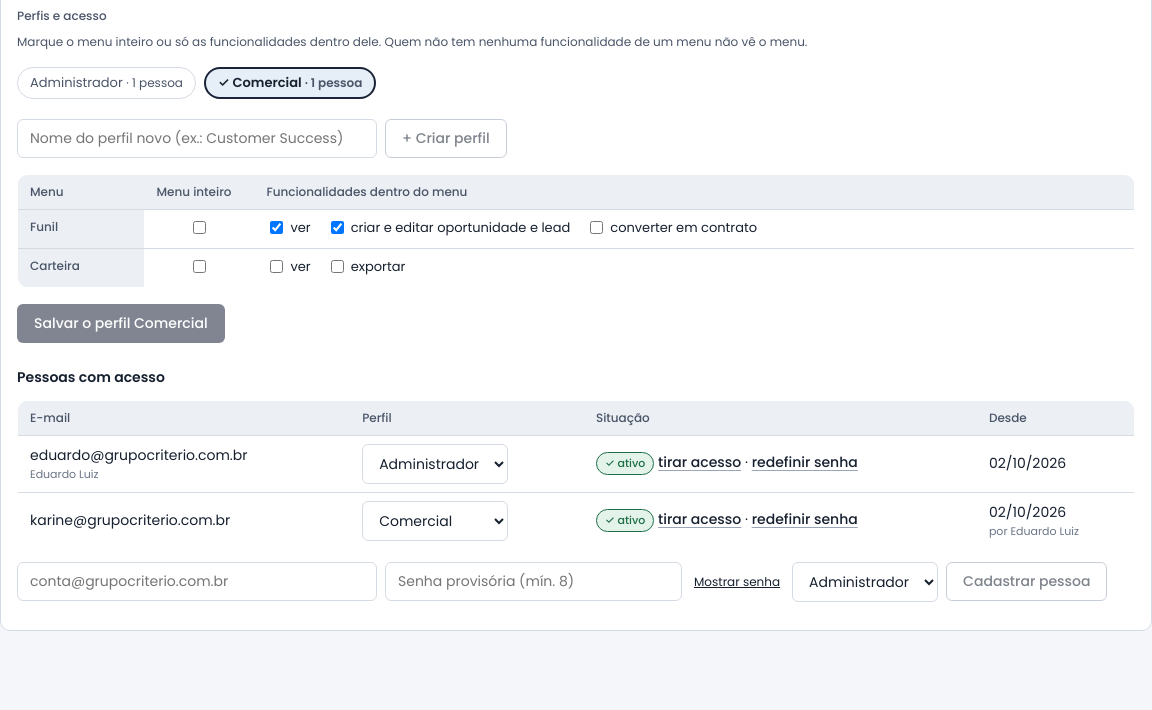
Test: Perfis e acesso no login com senha (issue #89) › cadastra com senha provisória, com o Administrador pré-selecionado
This screenshot has width=1152, height=710.
expect the column heading "E-mail" is shown: met, box [18,400,350,435]
expect the dropdown named "Perfil da pessoa" shows "Administrador": met, box [792,562,938,602]
Type "ana@grupocriterio.com.br" into the field named "E-mail da pessoa".
click(197, 582); type("ana@grupocriterio.com.br")  # box [17,562,377,601]
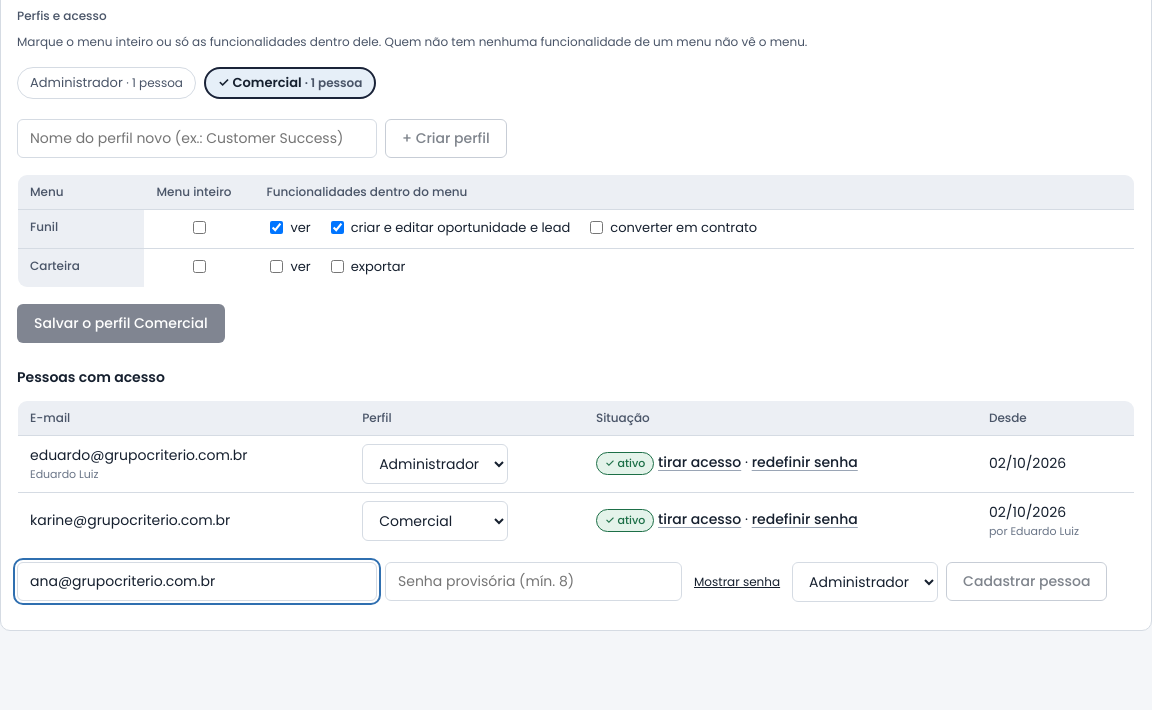
expect the button "Cadastrar pessoa" is disabled: met, box [946,562,1108,601]
Type "curta" into the password field labelled "Senha provisória".
click(534, 582); type("curta")  # box [385,562,682,601]
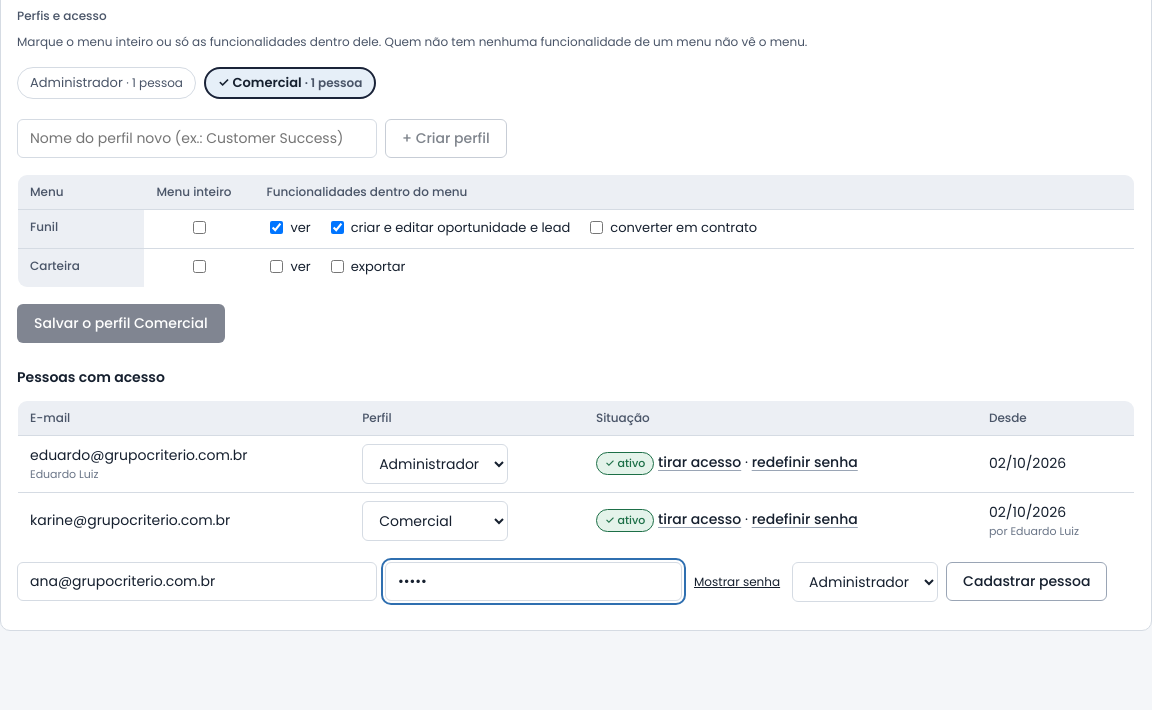
Click the button "Cadastrar pessoa".
click(1027, 582)  # box [946,562,1108,601]
(page scrolled)
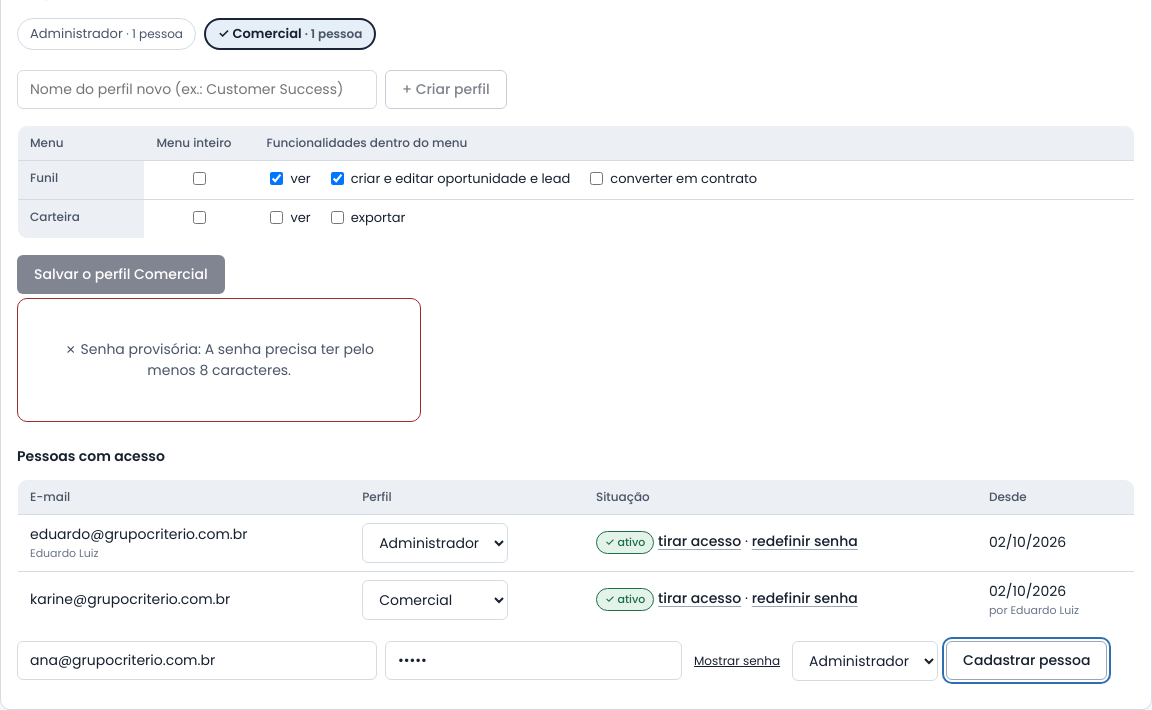
expect the message shows "Senha provisória: A senha precisa ter pelo menos 8 caracteres.": met, box [80,338,374,380]
Type "-provisoria" into the password field named "Senha provisória".
click(534, 660); type("-provisoria")  # box [385,641,682,680]
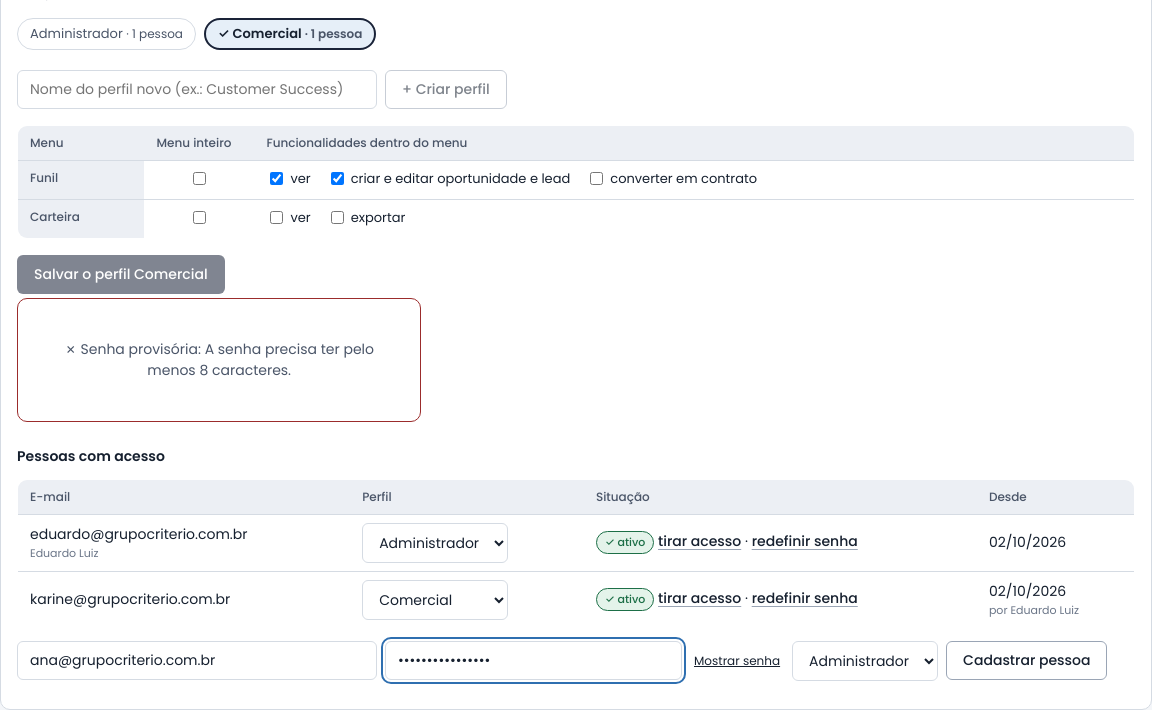
Click the button "Cadastrar pessoa".
click(1027, 660)  # box [946,641,1108,680]
(page scrolled)
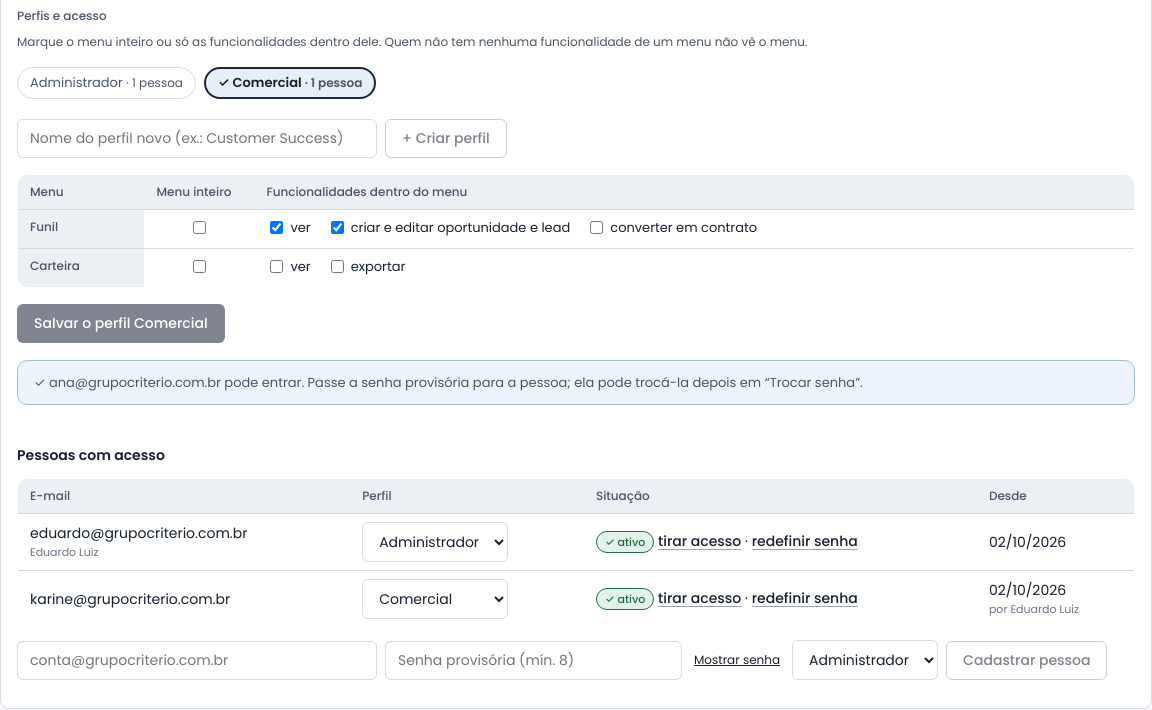
expect the message shows "Passe a senha provisória para a pessoa": met, box [49,372,863,392]
expect the password field labelled "Senha provisória" is empty: met, box [385,640,682,680]
